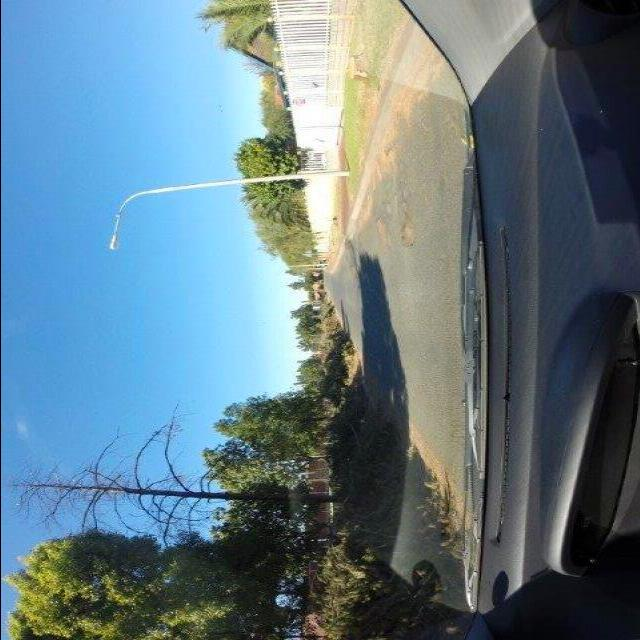lubang: (392, 65, 438, 123), (368, 143, 404, 193), (347, 189, 374, 239), (395, 209, 413, 250), (374, 214, 392, 254), (376, 124, 398, 150)
